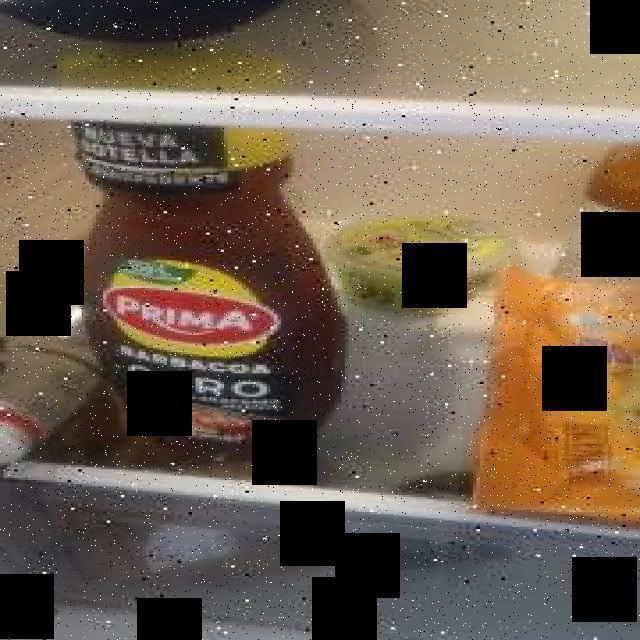guacamole: (322, 216, 524, 317)
